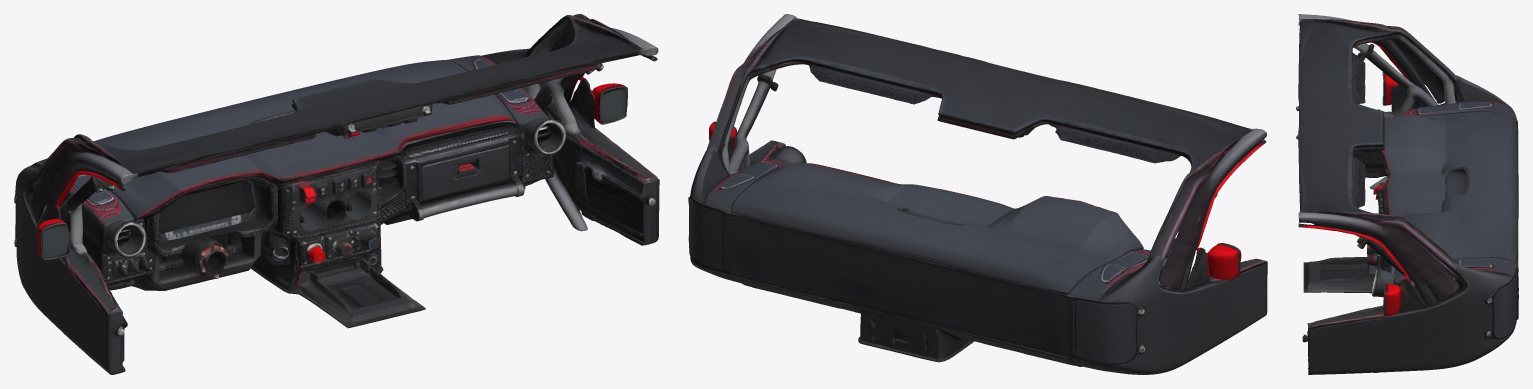
Rendered from interior_rally.glb.
3 views of the same model, side by side, from view 1: azimuth 30°, elevation 25°; view 2: azimuth 150°, elevation 25°; view 3: azimuth 270°, elevation 25° (orthographic). The views are drawn at different scales.
Parts seen in each view (by area): view 1: tripo_node_c5ffe57c-e06b-47cc-9826-52504e8e2c06; view 2: tripo_node_c5ffe57c-e06b-47cc-9826-52504e8e2c06; view 3: tripo_node_c5ffe57c-e06b-47cc-9826-52504e8e2c06.
Part boxes in pixels (left/top/right/bottom): tripo_node_c5ffe57c-e06b-47cc-9826-52504e8e2c06: left=14, top=14, right=659, bottom=374; tripo_node_c5ffe57c-e06b-47cc-9826-52504e8e2c06: left=688, top=14, right=1267, bottom=374; tripo_node_c5ffe57c-e06b-47cc-9826-52504e8e2c06: left=1296, top=14, right=1518, bottom=374.
Size of the model in its own units: 0.9854 by 0.3425 by 0.4155.
Materials: 1 (1 with a texture image).
